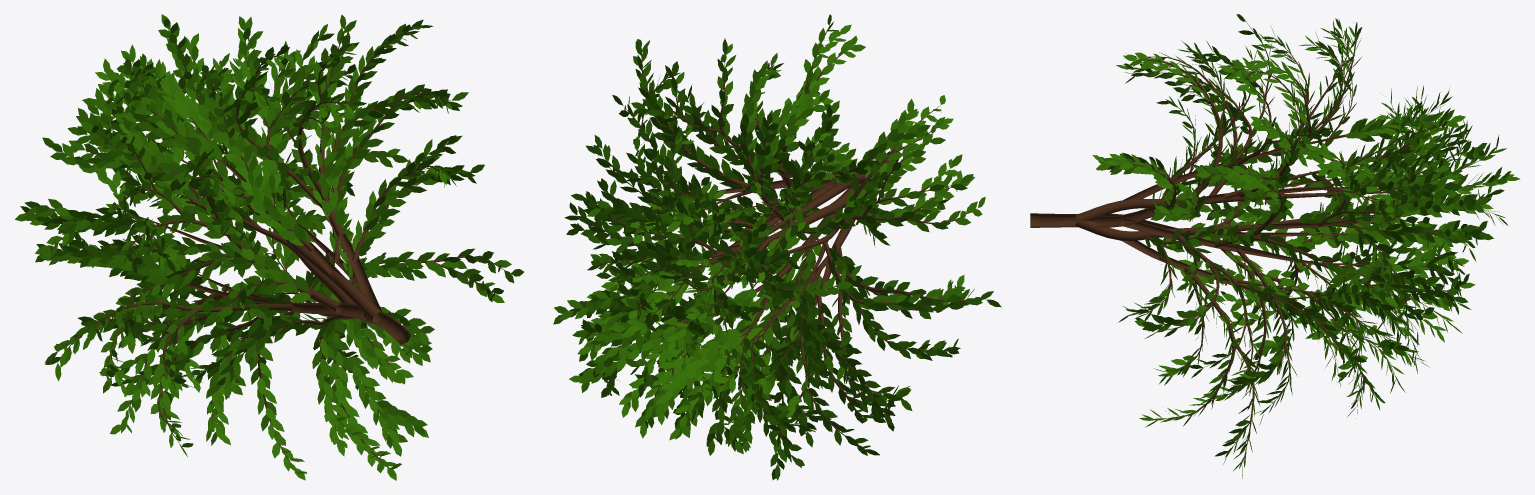
File: Tree.fbx
3 renders of one model, left to right at view 1: azimuth 30°, elevation 25°; view 2: azimuth 150°, elevation 25°; view 3: azimuth 270°, elevation 25°, orthographic. The views are drawn at different scales.
Visible parts, largest first — view 1: Tree; view 2: Tree; view 3: Tree.
Part boxes in pixels (x1,y1,x2,y2): Tree: [15, 14, 523, 480]; Tree: [553, 14, 1001, 480]; Tree: [1030, 14, 1519, 478].
Bounding box in the file's own units: 568 × 587 × 671.
